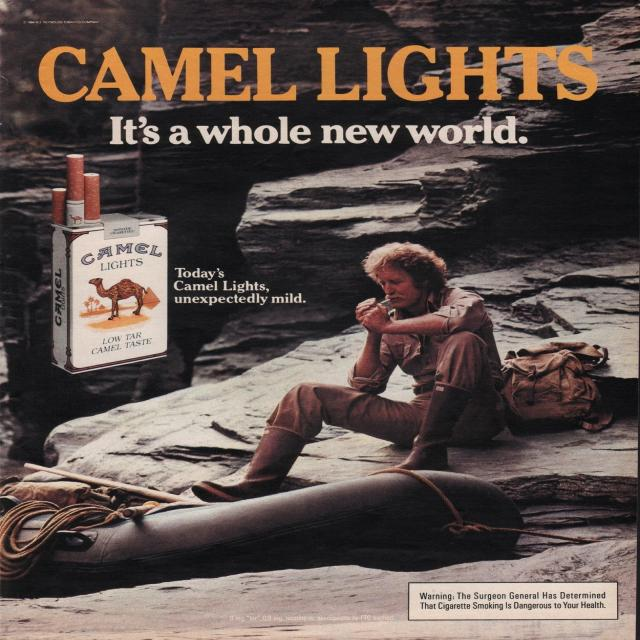smoke: (380, 298, 391, 304)
